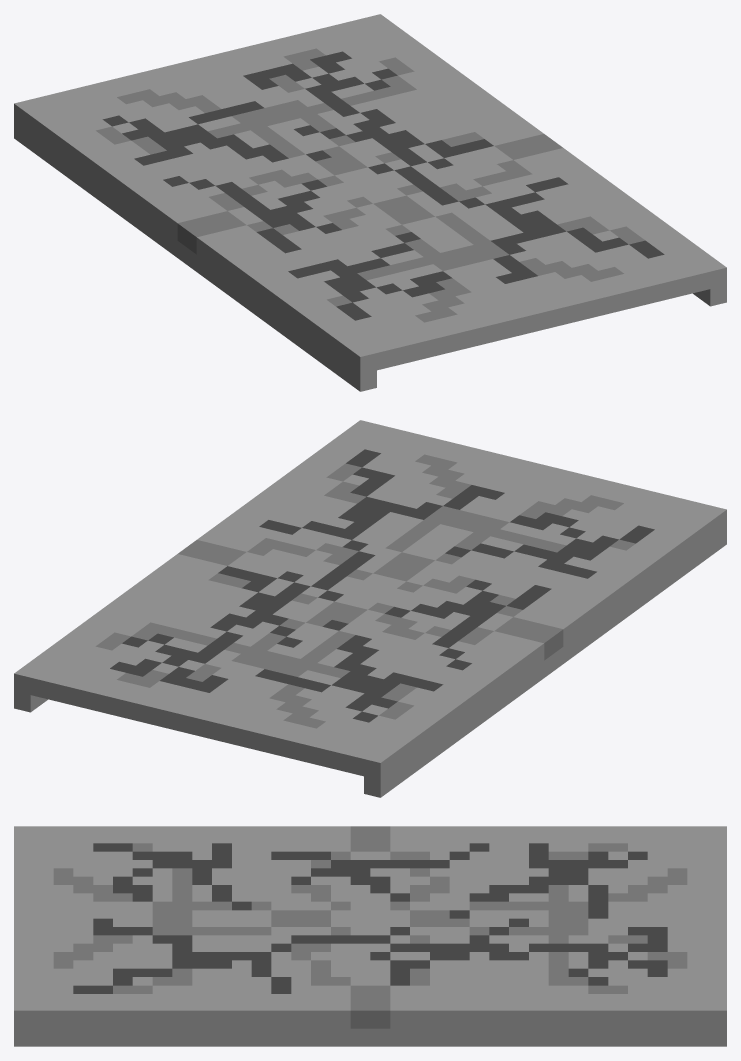
Rendered from Ponte_Quebrada.fbx.
3 views of the same model, one above another, from view 1: azimuth 30°, elevation 25°; view 2: azimuth 150°, elevation 25°; view 3: azimuth 270°, elevation 25° (orthographic). The views are drawn at different scales.
Visible parts, largest first — view 1: Mesh; view 2: Mesh; view 3: Mesh.
Boxes of the visible parts, bbox=[...] form: Mesh: bbox=[14, 14, 726, 391]; Mesh: bbox=[14, 420, 726, 797]; Mesh: bbox=[14, 826, 726, 1046].
Size of the model in its own units: 55 by 5 by 90.
Materials: 1 (1 with a texture image).
